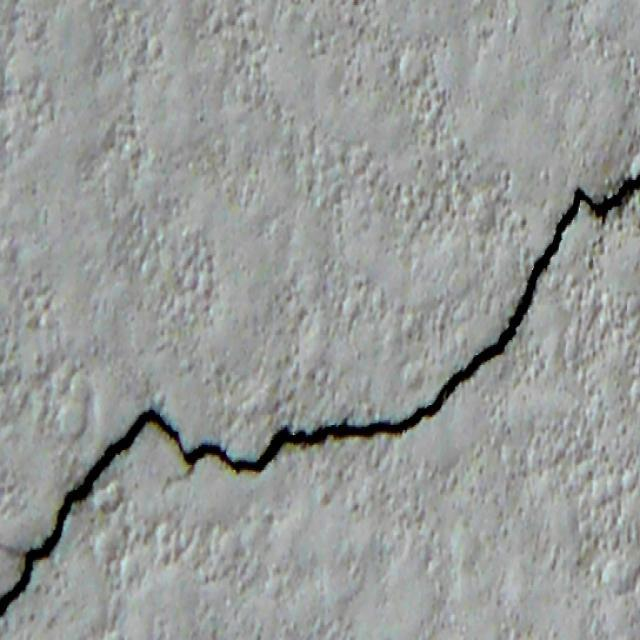Diagonal: (0, 158, 640, 636)
